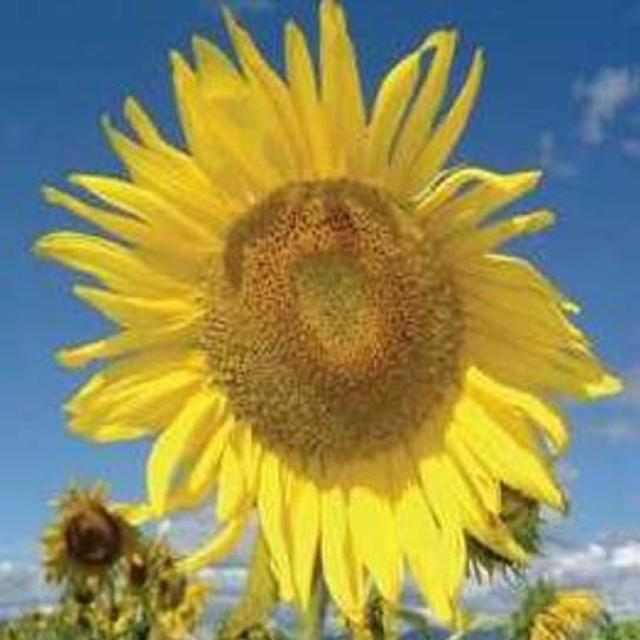sunflower: (5, 1, 629, 634), (444, 456, 553, 590), (32, 482, 140, 591), (504, 582, 608, 640), (144, 568, 201, 640), (342, 587, 401, 640), (122, 545, 152, 599), (217, 611, 271, 640), (68, 578, 106, 612), (98, 600, 137, 632), (155, 536, 183, 578), (21, 603, 54, 630), (148, 570, 174, 599), (71, 609, 96, 634), (2, 617, 25, 640), (172, 575, 190, 590)
